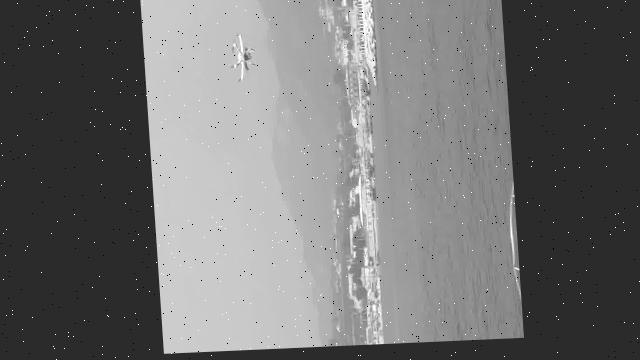drone: (223, 27, 266, 92)
